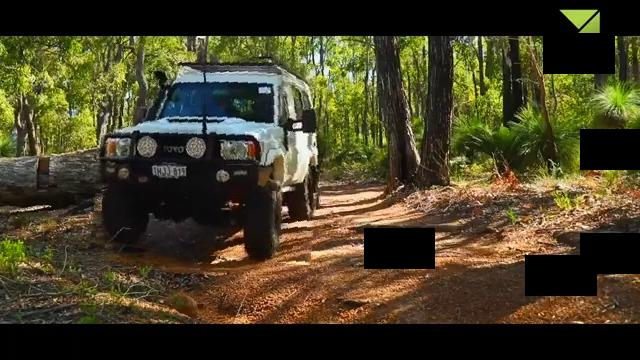MIL_HMMWV: (95, 48, 326, 260)
